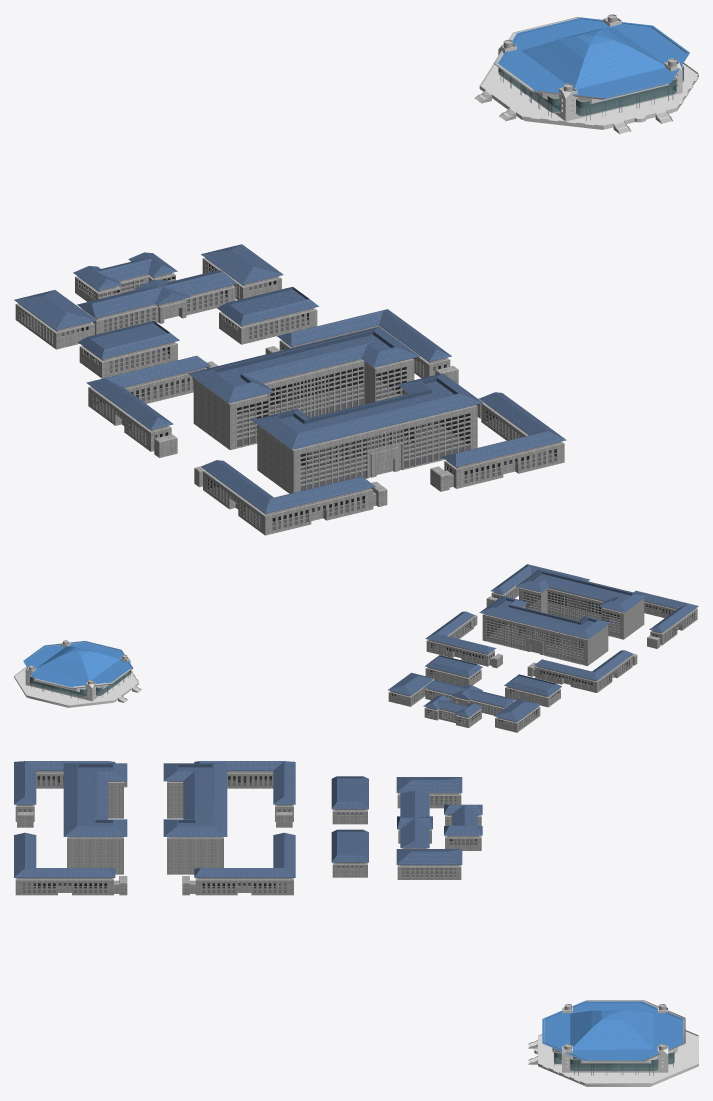
The model's file is shizhengfu.FBX.
3 views of the same model, one above another, from view 1: azimuth 30°, elevation 25°; view 2: azimuth 150°, elevation 25°; view 3: azimuth 270°, elevation 25° (orthographic). The views are drawn at different scales.
Parts seen in each view (by area): view 1: Rectangle023, Object001, Plane003, Line20831, Cylinder001, Box001, Line001; view 2: Rectangle023, Object001, Line20831, Plane003, Cylinder001, Box001, Line001; view 3: Object001, Rectangle023, Plane003, Cylinder001, Line20831, Box001, Line001.
Boxes of the visible parts, x1,y1,x2,y2 form: Rectangle023: (15,258,564,535); Object001: (14,244,566,513); Plane003: (498,17,689,98); Line20831: (19,262,556,530); Cylinder001: (475,17,698,133); Box001: (474,14,685,133); Line001: (498,66,683,115); Rectangle023: (388,573,697,732); Object001: (388,564,698,721); Line20831: (392,587,694,728); Plane003: (23,641,132,686); Cylinder001: (14,642,140,707); Box001: (25,640,141,702); Line001: (25,669,131,697); Object001: (14,761,482,877); Rectangle023: (15,771,481,895); Plane003: (542,1001,683,1060); Cylinder001: (528,1005,698,1086); Line20831: (19,776,476,892); Box001: (528,1000,685,1075); Line001: (554,1051,674,1071).
Size of the model in its own units: 658 by 622 by 46.75.
